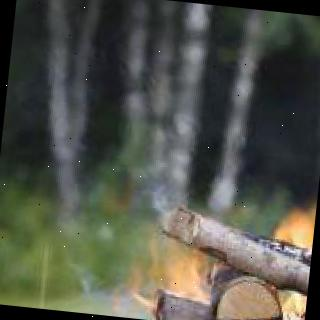fire: (149, 121, 320, 320)
